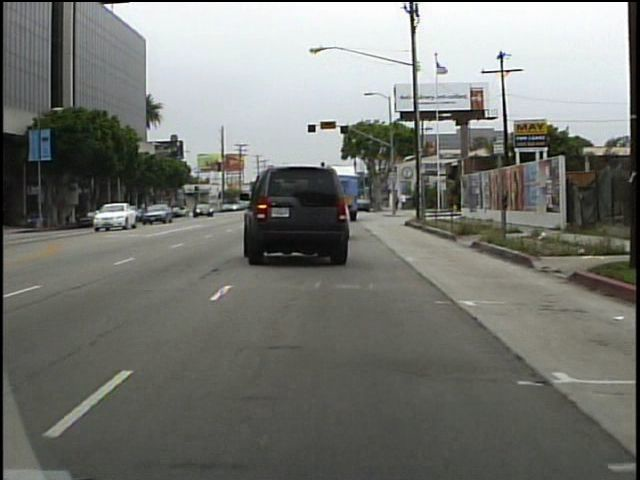person: (400, 190, 410, 212), (393, 189, 401, 214)
